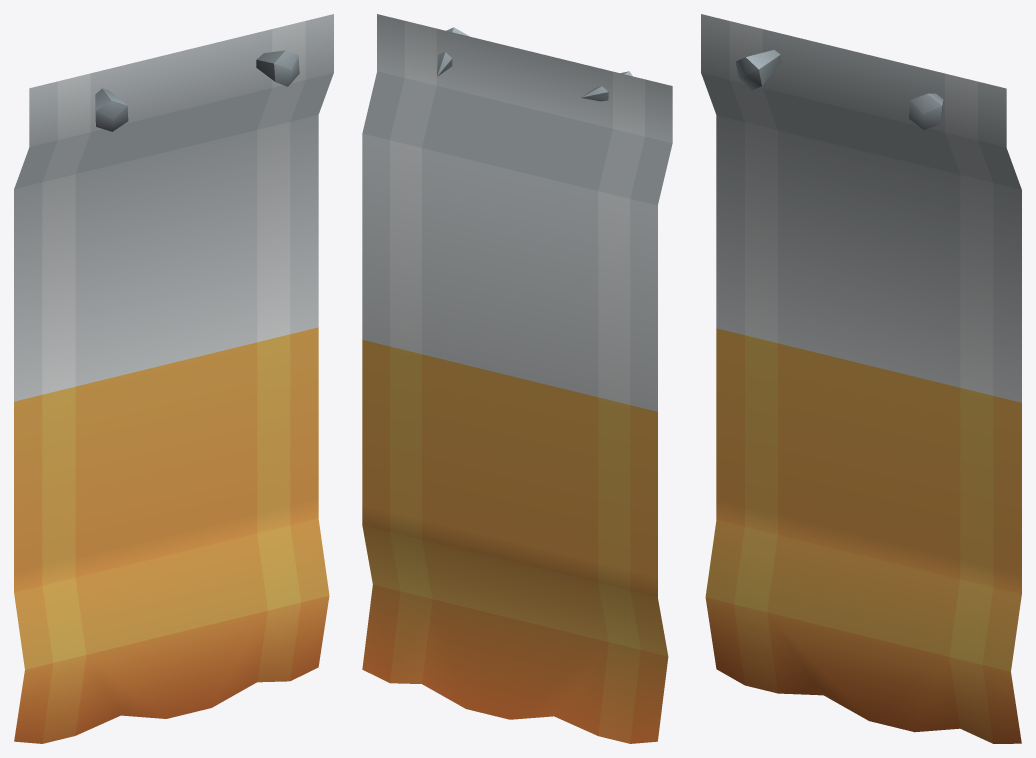
The model's file is banner_pattern_b_yellow.gltf.
3 renders of one model, left to right at view 1: azimuth 30°, elevation 25°; view 2: azimuth 150°, elevation 25°; view 3: azimuth 330°, elevation 25°, orthographic. The views are drawn at different scales.
Visible parts, largest first — view 1: banner_patternB_yellow; view 2: banner_patternB_yellow; view 3: banner_patternB_yellow.
Part boxes in pixels (x1,y1,x2,y2): banner_patternB_yellow: (14, 14, 333, 743); banner_patternB_yellow: (362, 14, 672, 743); banner_patternB_yellow: (701, 14, 1021, 743).
Bounding box in the file's own units: 1.5 × 3.2 × 0.3119.
1 material, 1 textured.
